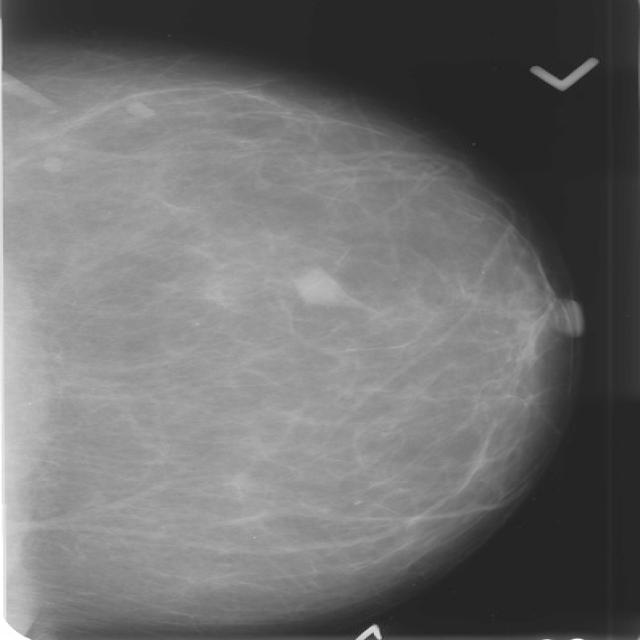tumour: (294, 266, 352, 306)
